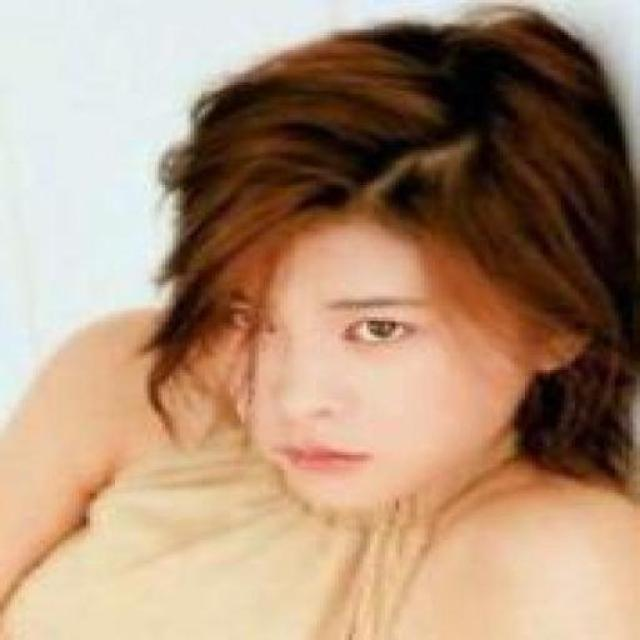bareface: (160, 77, 578, 514)
